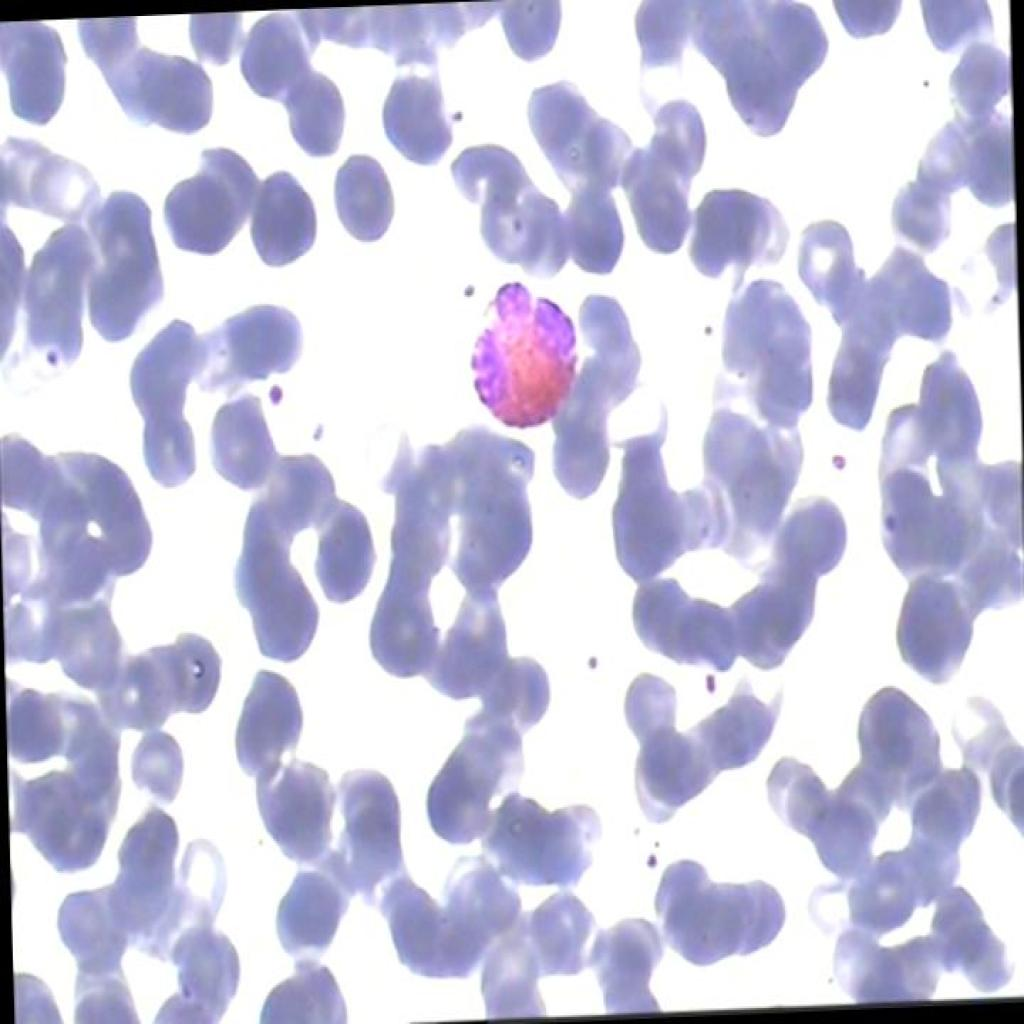Eosinofil: (462, 274, 580, 442)
Platelet: (26, 336, 76, 391), (442, 92, 474, 148), (820, 439, 854, 480), (698, 658, 726, 700), (260, 375, 289, 414), (694, 311, 720, 350), (633, 844, 664, 874), (579, 649, 606, 675)
